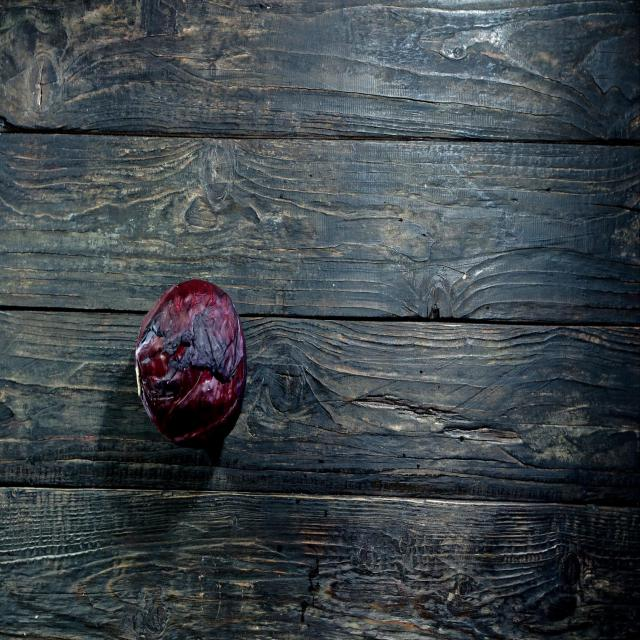cabbage: (132, 276, 248, 458)
